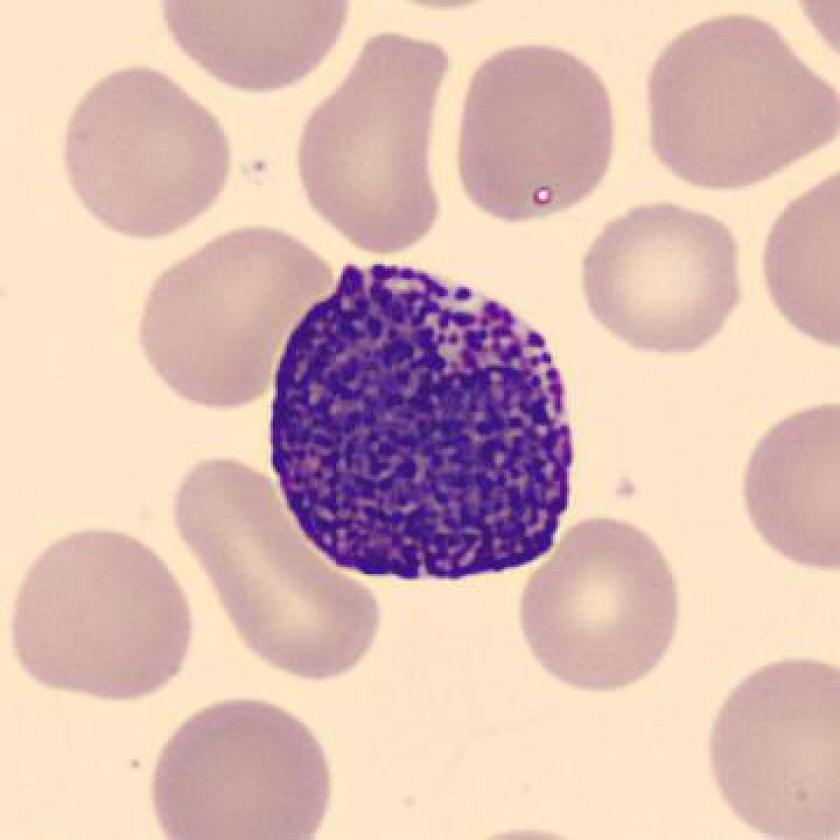basophil: (272, 256, 573, 580)
